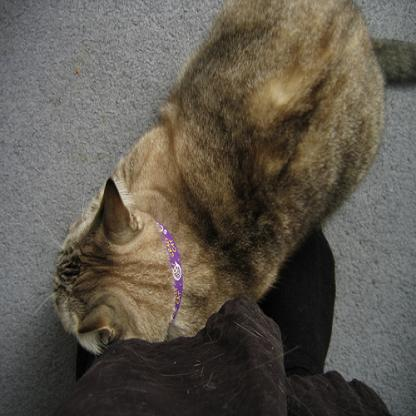cat: (49, 0, 415, 356)
